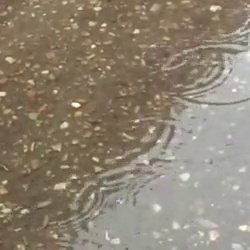drop: (165, 45, 250, 107), (140, 39, 185, 70)
